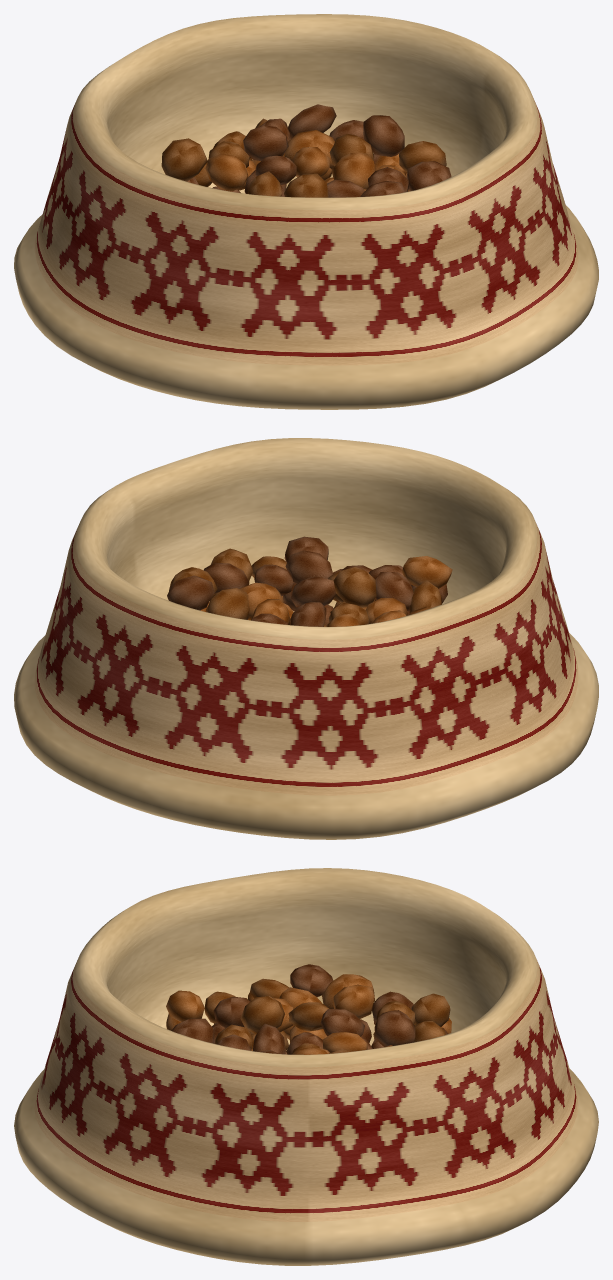
The model's file is food-bowl.glb.
3 renders of one model, top to bottom at view 1: azimuth 30°, elevation 25°; view 2: azimuth 150°, elevation 25°; view 3: azimuth 270°, elevation 25°, orthographic.
Visible parts, largest first — view 1: Hand-thrown painted ceramic dish, Dry kibble pieces; view 2: Hand-thrown painted ceramic dish, Dry kibble pieces; view 3: Hand-thrown painted ceramic dish, Dry kibble pieces.
Boxes of the visible parts, bbox=[...] form: Hand-thrown painted ceramic dish: bbox=[14, 14, 598, 409]; Dry kibble pieces: bbox=[161, 104, 451, 197]; Hand-thrown painted ceramic dish: bbox=[14, 438, 598, 839]; Dry kibble pieces: bbox=[167, 536, 452, 626]; Hand-thrown painted ceramic dish: bbox=[14, 868, 598, 1265]; Dry kibble pieces: bbox=[166, 964, 451, 1054].
Size of the model in its own units: 0.3436 by 0.126 by 0.3436.
Materials: 5 (5 with a texture image).
